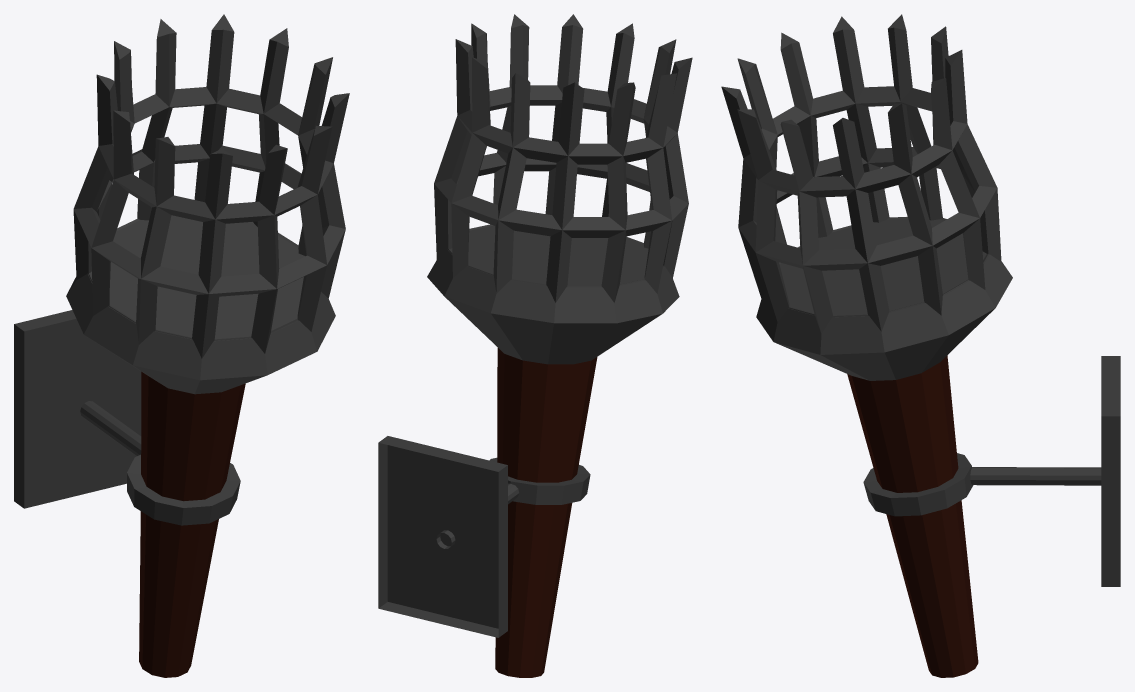
Rendered from Torch.fbx.
The picture shows the model from 3 angles, left to right: view 1: azimuth 30°, elevation 25°; view 2: azimuth 150°, elevation 25°; view 3: azimuth 270°, elevation 25°; orthographic projection. The views are drawn at different scales.
Parts seen in each view (by area): view 1: Cylinder; view 2: Cylinder; view 3: Cylinder.
Part boxes in pixels (x1,y1,x2,y2): Cylinder: (14, 14, 349, 677); Cylinder: (378, 14, 692, 677); Cylinder: (721, 14, 1120, 677).
Bounding box in the file's own units: 0.2303 × 0.6002 × 0.3498.
